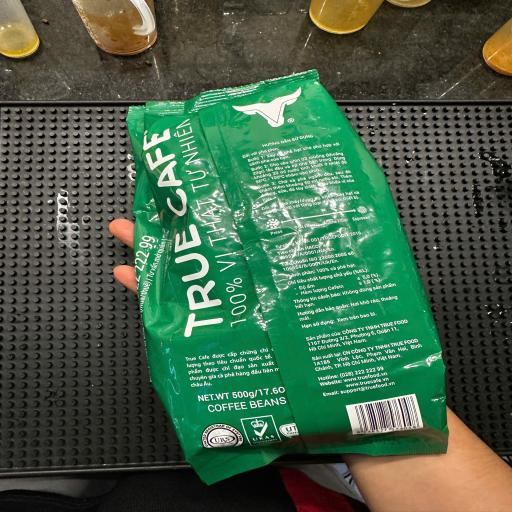cafe_xay: (86, 78, 476, 487)
